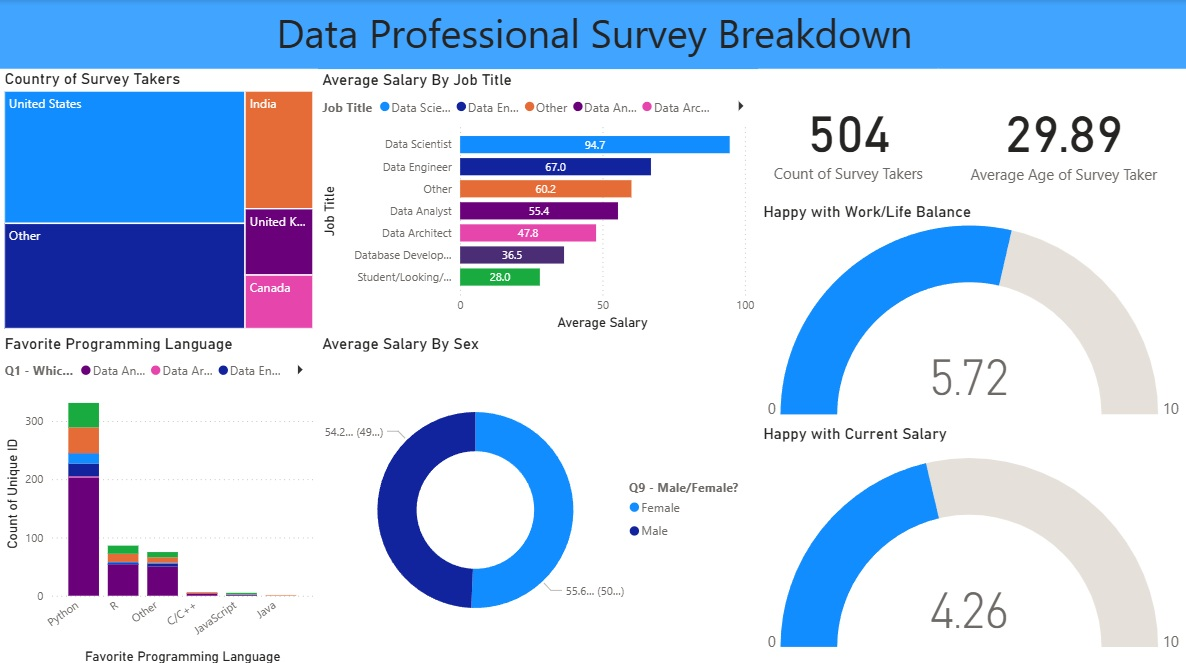

The dashboard page shown, as its layout file describes it:
{"tool":"powerbi","page":{"name":"Page 1","canvas":[1280,720],"ordinal":0},"visuals":[{"type":"textbox","box":[0,0,1280.3,74.1],"z":0},{"type":"card","fields":{"Values":["CountNonNull(Data Professional Survey.Unique ID)"]},"box":[817.7,74.5,193.3,148.9],"z":1000},{"type":"card","fields":{"Values":["Avg(Data Professional Survey.Q10 - Current Age)"]},"box":[1010.5,74.2,269.8,149.7],"z":2000},{"type":"barChart","title":"Average Salary By Job Title","fields":{"Category":["Data Professional Survey.Q1 - Which Title Best Fits your Current Role?.1"],"Y":["Avg(Data Professional Survey.Average Salary)"],"Series":["Data Professional Survey.Q1 - Which Title Best Fits your Current Role?.1"]},"box":[342.3,75.9,475.5,285],"z":3000},{"type":"columnChart","title":"Favorite Programming Language","fields":{"Category":["Data Professional Survey.Q5 - Favorite Programming Language.1"],"Y":["Count(Data Professional Survey.Unique ID)"],"Series":["Data Professional Survey.Q1 - Which Title Best Fits your Current Role?.1"]},"box":[0,359.5,342.3,360.9],"z":4000},{"type":"treemap","title":"Country of Survey Takers","fields":{"Group":["Data Professional Survey.Q11 - Which Country do you live in?.1"],"Values":["CountNonNull(Data Professional Survey.Q11 - Which Country do you live in?.1)"]},"box":[0,74.5,342.3,285],"z":5000},{"type":"gauge","title":"Happy with Work/Life Balance","fields":{"Y":["Avg(Data Professional Survey.Q6 - How Happy are you in your Current Position with the following? (Work/Life Balance))"],"MinValue":["Min(Data Professional Survey.Q6 - How Happy are you in your Current Position with the following? (Work/Life Balance))"],"MaxValue":["Max(Data Professional Survey.Q6 - How Happy are you in your Current Position with the following? (Work/Life Balance))1"]},"box":[817.7,217.7,462.6,239.2],"z":6000},{"type":"gauge","title":"Happy with Current Salary","fields":{"Y":["Avg(Data Professional Survey.Q6 - How Happy are you in your Current Position with the following? (Salary))"],"MinValue":["Min(Data Professional Survey.Q6 - How Happy are you in your Current Position with the following? (Salary))1"],"MaxValue":["Max(Data Professional Survey.Q6 - How Happy are you in your Current Position with the following? (Salary))2"]},"box":[817.7,456.8,462.6,263.5],"z":7000},{"type":"donutChart","title":"Average Salary By Sex","fields":{"Category":["Data Professional Survey.Q9 - Male/Female?"],"Y":["Avg(Data Professional Survey.Average Salary)"]},"box":[342.3,359.5,475.5,360.9],"z":8000}]}

Visuals, with their boxes in screenshot pixels (x1, y1, x2, y2), scaled from the page's 1280x720 canvas onto the 1186x663 screenshot:
textbox: 0,0,1185,68
card - CountNonNull(Data Professional Survey.Unique ID): 758,69,937,206
card - Avg(Data Professional Survey.Q10 - Current Age): 936,68,1185,206
"Average Salary By Job Title" barChart: 317,70,758,332
"Favorite Programming Language" columnChart: 0,331,317,662
"Country of Survey Takers" treemap: 0,69,317,331
"Happy with Work/Life Balance" gauge: 758,200,1185,421
"Happy with Current Salary" gauge: 758,421,1185,662
"Average Salary By Sex" donutChart: 317,331,758,662
